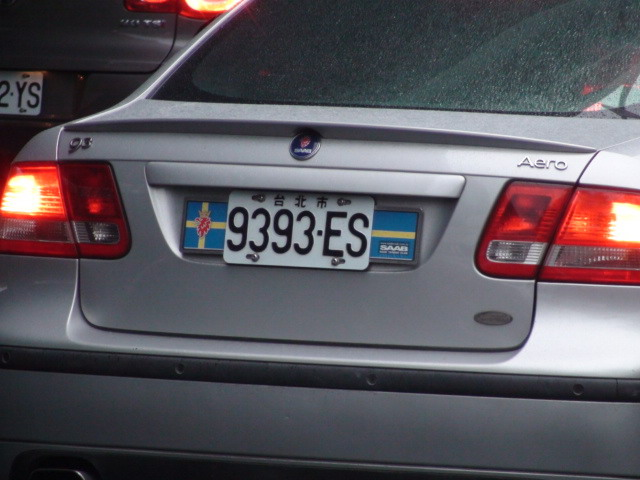plate: (221, 188, 375, 274)
